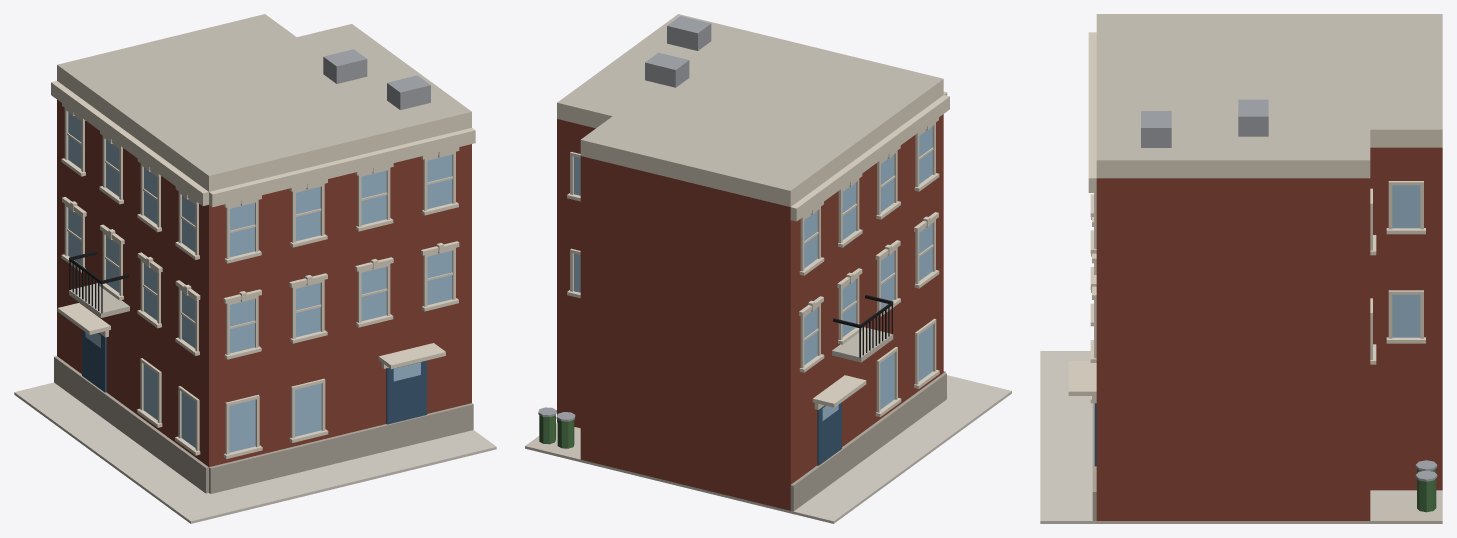
Rendered from Blok_kose_3k_2_Hafif.fbx.
3 views of the same model, side by side, from view 1: azimuth 30°, elevation 25°; view 2: azimuth 150°, elevation 25°; view 3: azimuth 270°, elevation 25° (orthographic). The views are drawn at different scales.
Visible parts, largest first — view 1: Blok_kose_3k_2_Hafif; view 2: Blok_kose_3k_2_Hafif; view 3: Blok_kose_3k_2_Hafif.
Part boxes in pixels (left/top/right/bottom): Blok_kose_3k_2_Hafif: left=14, top=14, right=496, bottom=523; Blok_kose_3k_2_Hafif: left=525, top=14, right=1011, bottom=523; Blok_kose_3k_2_Hafif: left=1040, top=14, right=1442, bottom=523.
Bounding box in the file's own units: 10 × 10.53 × 10.
